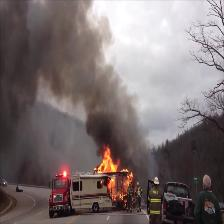fire: (97, 147, 118, 172)
smoke: (3, 4, 96, 92), (87, 96, 138, 142)
